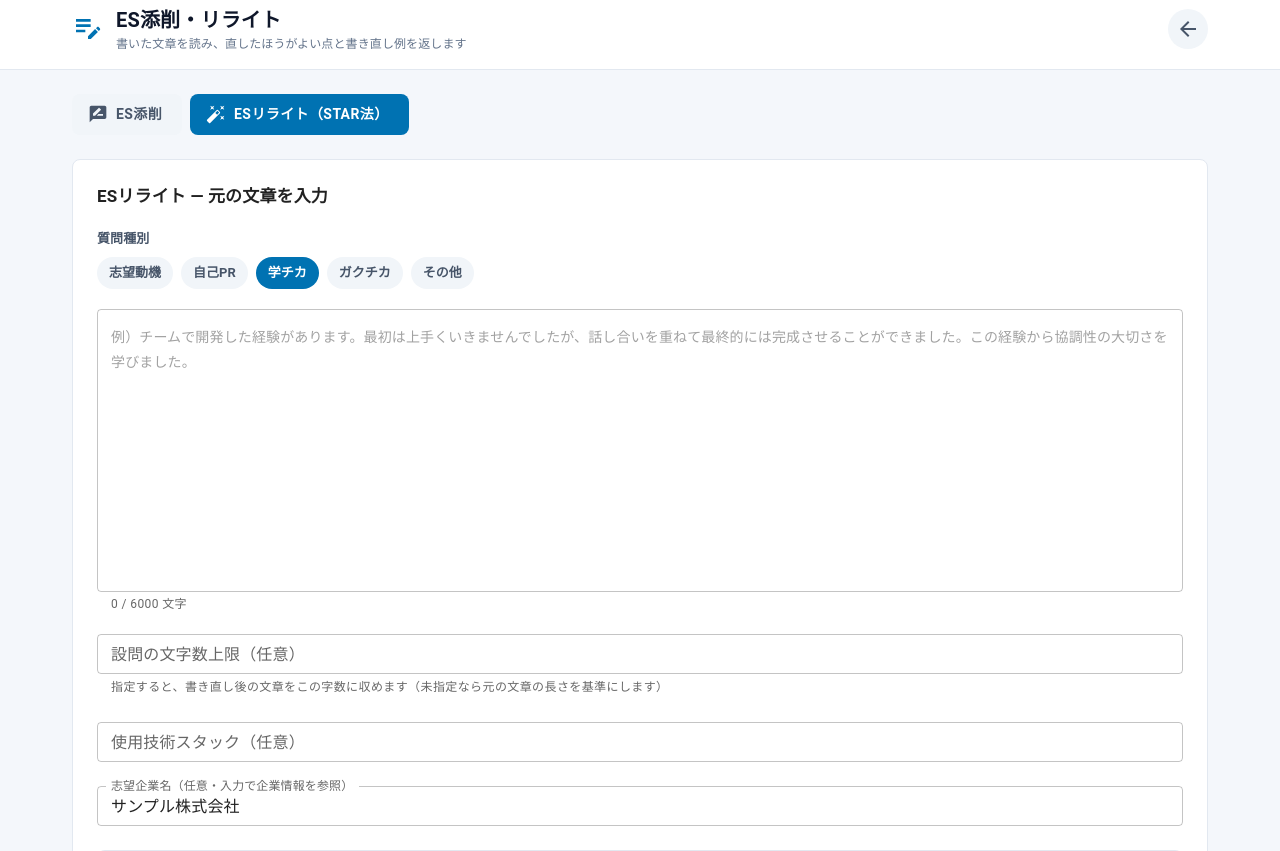
ESRewritePage エラー表示 (#1015) › プロキシがJSONを返さない場合はフォールバックの日本語文言を表示する
This screenshot has width=1280, height=851.
Step 1. Replace the text in the text box with placeholder "チームで開発した経験があります" with "元の文章です。" → (640, 450), box [111,325,1169,575]
(page scrolled)
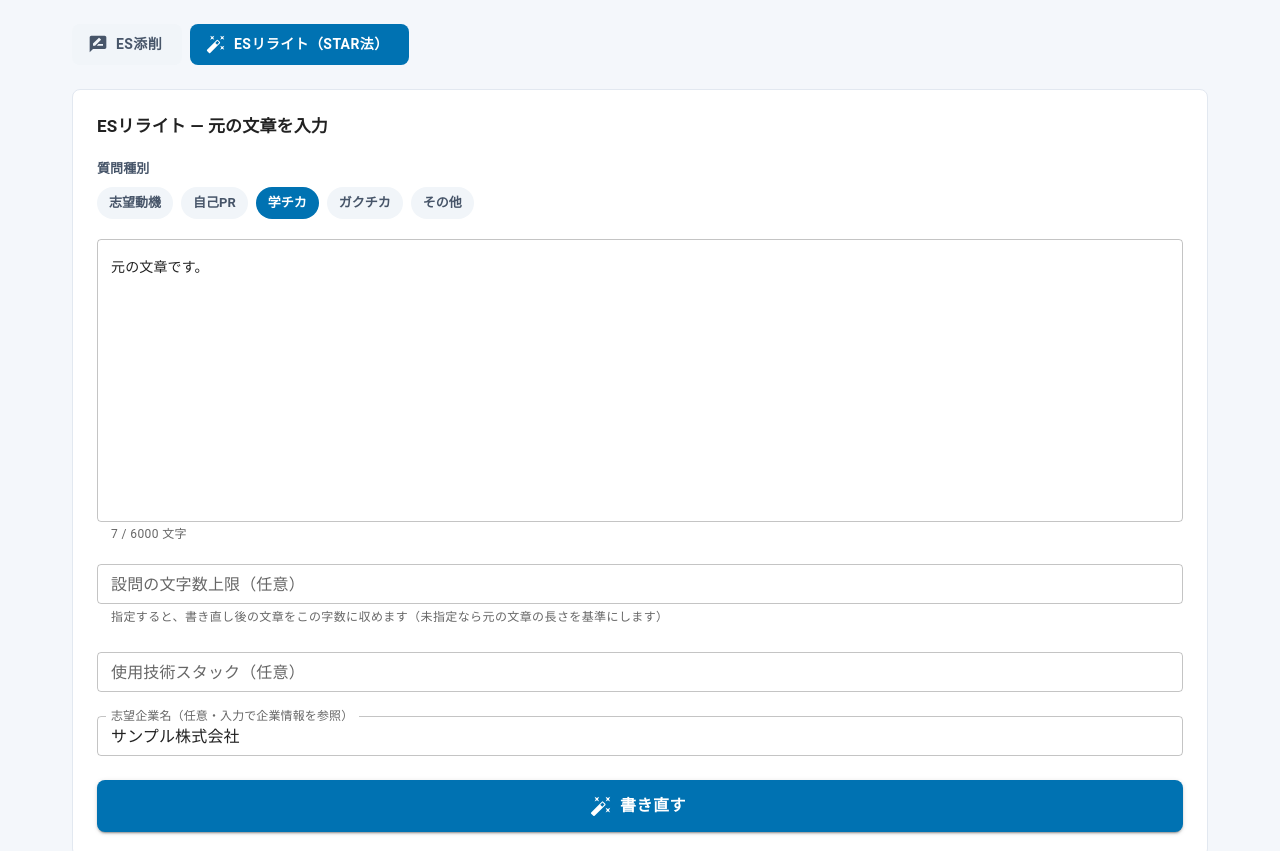
Step 2. Click the button "書き直す" → click(640, 806), box [97,780,1183,832]
(page scrolled)
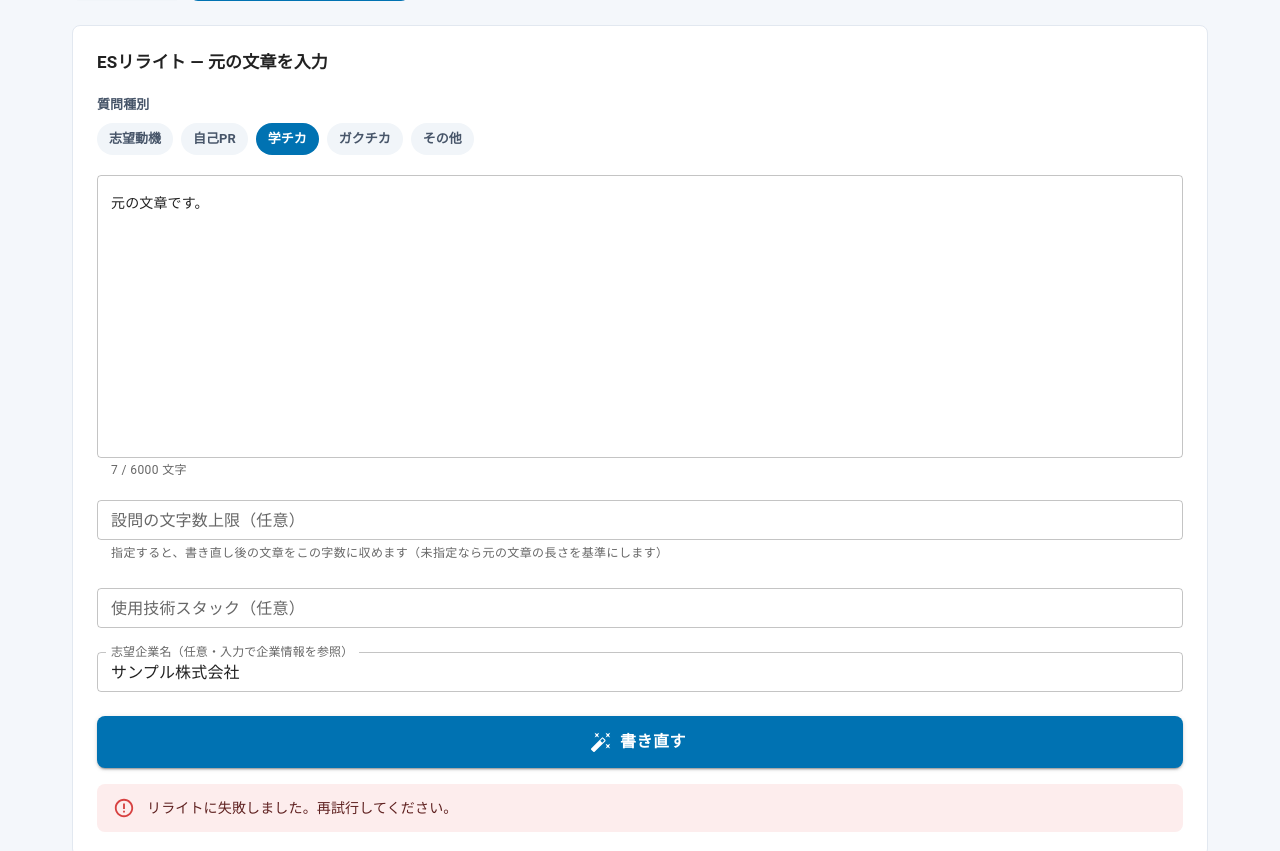
Expected: the text "リライトに失敗しました。再試行してください。" is shown, [147,800,458,816]
